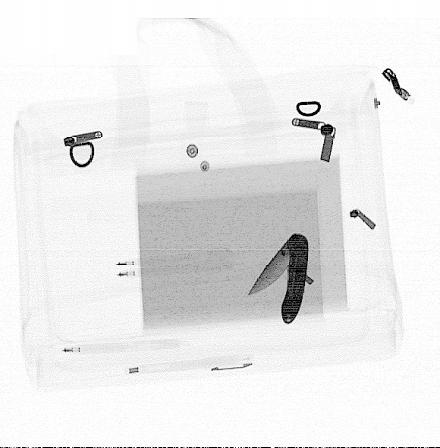Knife: (248, 231, 310, 327)
